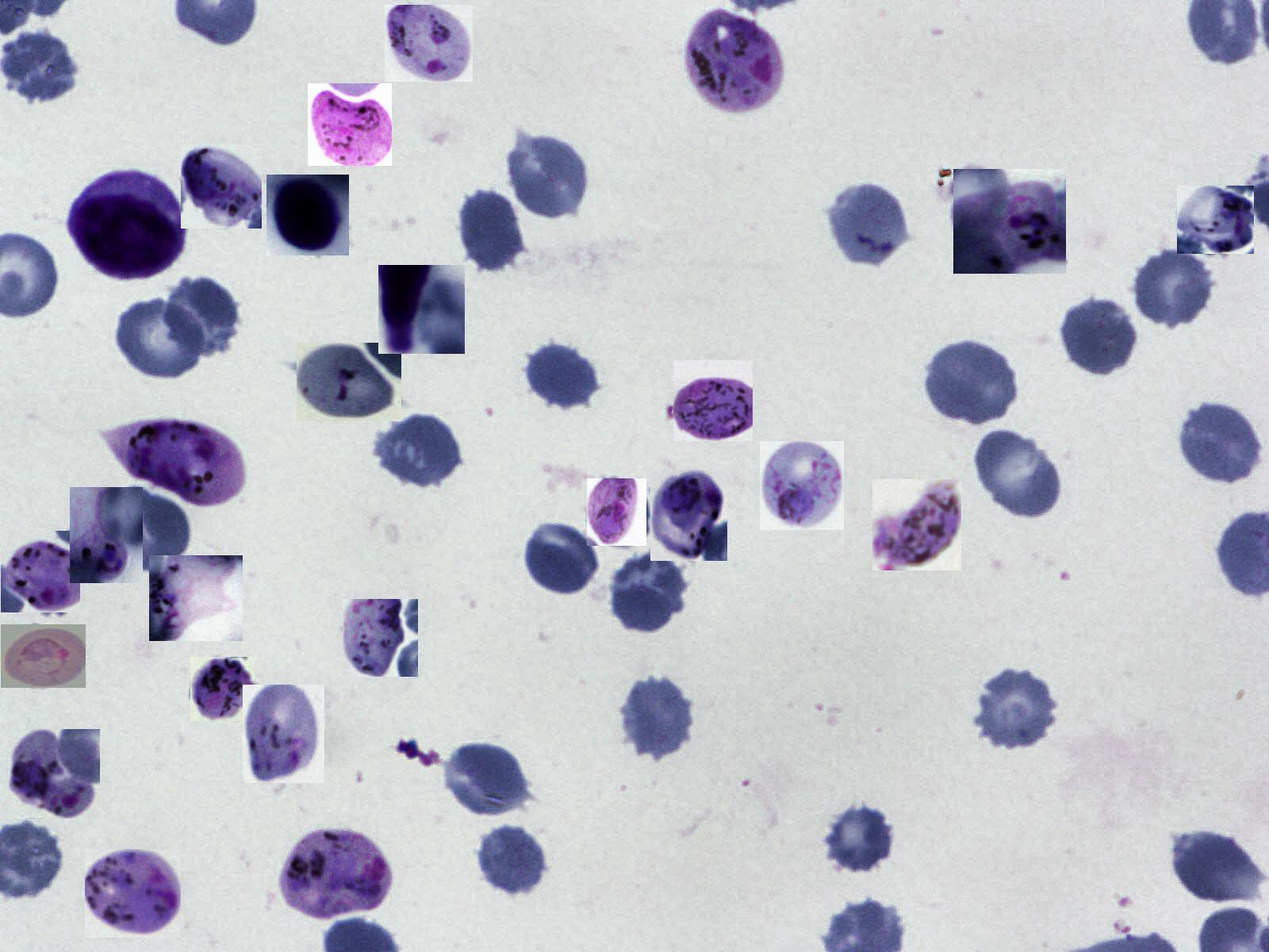Infected: (102, 418, 250, 508), (67, 171, 186, 280), (953, 169, 1066, 274), (684, 10, 781, 113), (283, 829, 391, 918), (85, 849, 181, 938), (9, 729, 100, 819), (297, 343, 401, 421), (872, 479, 961, 570), (149, 555, 243, 641), (243, 685, 324, 784), (378, 266, 465, 355), (760, 441, 844, 530), (70, 487, 143, 583), (650, 470, 727, 561), (308, 84, 392, 167), (181, 144, 262, 228), (385, 5, 473, 82), (266, 175, 349, 255), (673, 360, 753, 441), (1, 531, 80, 612), (343, 600, 418, 678), (1, 624, 86, 688), (1177, 186, 1254, 254), (190, 657, 255, 721), (587, 478, 646, 546)
Uninfected: (972, 425, 1066, 522), (923, 337, 1021, 427), (504, 131, 591, 222), (1176, 398, 1263, 488), (972, 664, 1060, 752), (107, 486, 195, 574), (113, 300, 208, 381), (826, 182, 911, 271), (1167, 827, 1264, 904), (159, 273, 244, 359), (442, 741, 532, 820), (1058, 294, 1141, 379), (1132, 246, 1216, 329), (620, 671, 696, 761), (374, 413, 466, 486), (610, 549, 688, 634), (458, 186, 527, 274), (474, 823, 550, 899), (1, 29, 77, 104), (820, 801, 896, 874), (525, 339, 603, 410), (524, 524, 600, 595)
